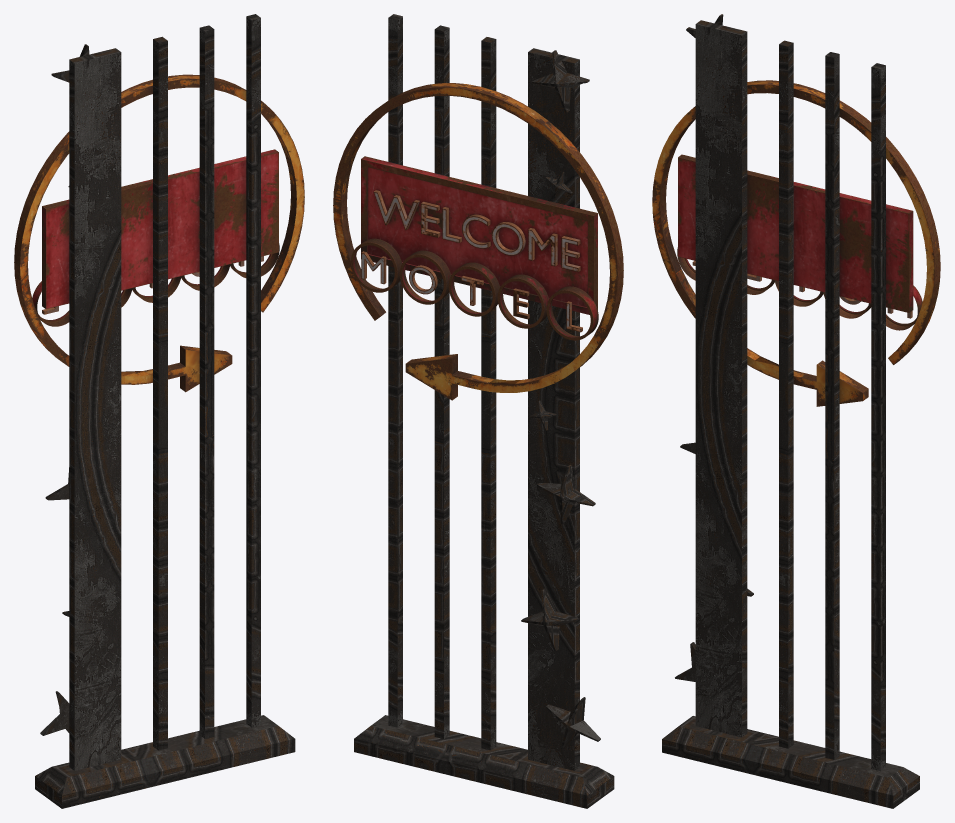
File: motelsign.obj
3 renders of one model, left to right at view 1: azimuth 30°, elevation 25°; view 2: azimuth 150°, elevation 25°; view 3: azimuth 330°, elevation 25°, orthographic.
Visible parts, largest first — view 1: base, sign; view 2: base, sign, welcome, motel; view 3: base, sign.
Part boxes in pixels (x1,y1,x2,y2): base: [35, 14, 295, 808]; sign: [14, 74, 304, 392]; base: [354, 14, 614, 808]; sign: [333, 83, 623, 400]; welcome: [373, 190, 580, 271]; motel: [361, 251, 582, 332]; base: [662, 14, 919, 808]; sign: [652, 80, 940, 406].
Size of the model in its own units: 12.22 by 30.36 by 2.
